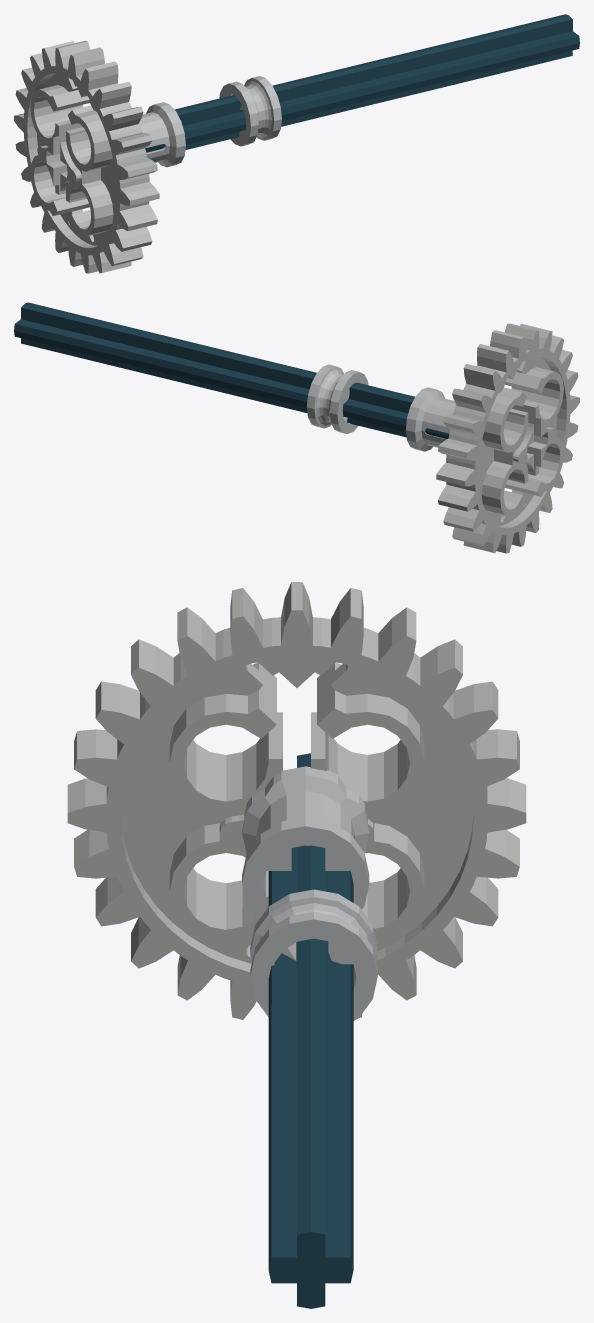
The picture shows the model from 3 angles, top to bottom: view 1: azimuth 30°, elevation 25°; view 2: azimuth 150°, elevation 25°; view 3: azimuth 270°, elevation 25°; orthographic projection. The views are drawn at different scales.
Parts seen in each view (by area): view 1: Piece000, Piece002, Piece003, Piece001; view 2: Piece000, Piece002, Piece003, Piece001; view 3: Piece000, Piece002, Piece001, Piece003.
Part boxes in pixels (x1,y1,x2,y2): Piece000: (14, 40, 159, 273); Piece002: (145, 14, 579, 152); Piece003: (219, 76, 281, 146); Piece001: (139, 102, 185, 167); Piece000: (436, 323, 579, 553); Piece002: (14, 302, 449, 438); Piece003: (306, 364, 368, 433); Piece001: (405, 387, 455, 451); Piece000: (67, 582, 526, 1019); Piece002: (268, 753, 353, 1308); Piece001: (242, 766, 369, 920); Piece003: (250, 889, 377, 1020).
Bounding box in the file's own units: 166 × 64.79 × 64.79.
